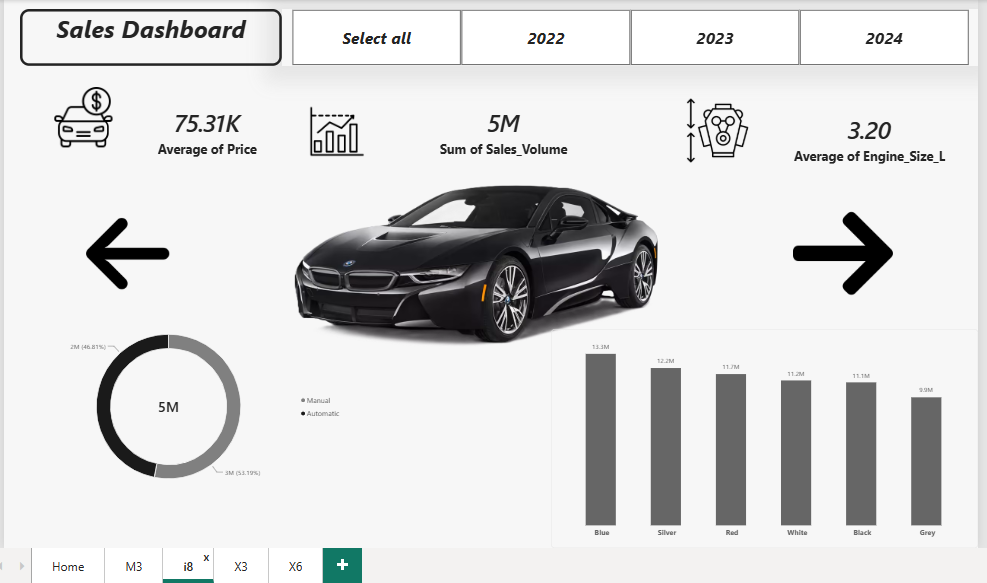

The page's visual inventory and layout, read from the dashboard file:
{"tool":"powerbi","page":{"name":"i8","canvas":[1920,1080],"ordinal":2},"visuals":[{"type":"image","box":[419,246.2,1032.5,561.6],"z":0},{"type":"slicer","fields":{"Values":["BMW_Car_Sales_Classification.Year"]},"box":[548.4,17.3,1371.6,112.3],"z":1},{"type":"textbox","box":[32.4,17.3,516.2,112.3],"z":2},{"type":"image","box":[69.1,170.6,175,118.8],"z":3},{"type":"cardVisual","fields":{"Data":["Avg(BMW_Car_Sales_Classification.Price_USD)"]},"box":[222.5,149,356.4,220.3],"z":4},{"type":"image","box":[1291.7,187.9,231.1,140.4],"z":5},{"type":"cardVisual","fields":{"Data":["Avg(BMW_Car_Sales_Classification.Engine_Size_L)"]},"box":[1522.8,170.6,365,203],"z":6},{"type":"image","box":[578.9,205.2,153.4,108],"z":7},{"type":"cardVisual","fields":{"Data":["Sum(BMW_Car_Sales_Classification.Sales_Volume)"]},"box":[801.4,157.7,365,203],"z":8},{"type":"columnChart","fields":{"Category":["BMW_Car_Sales_Classification.Color"],"Y":["Sum(BMW_Car_Sales_Classification.Price)"]},"box":[1077.6,648,842.4,432],"z":9},{"type":"donutChart","fields":{"Category":["BMW_Car_Sales_Classification.Transmission"],"Y":["Sum(BMW_Car_Sales_Classification.Sales_Volume)"]},"box":[49.7,587.5,637.2,429.8],"z":10},{"type":"image","box":[1555.2,380.2,196.6,237.6],"z":11},{"type":"image","box":[84.2,416.9,317.5,164.2],"z":12}]}

Visuals, with their boxes on the page's 1920x1080 design canvas (x1, y1, x2, y2). These are canvas units, not pixel positions in the 987x583 screenshot, which may show the page scaled, cropped or inside an application window:
image: <region>419, 246, 1452, 808</region>
slicer - BMW_Car_Sales_Classification.Year: <region>548, 17, 1920, 130</region>
textbox: <region>32, 17, 549, 130</region>
image: <region>69, 171, 244, 289</region>
cardVisual - Avg(BMW_Car_Sales_Classification.Price_USD): <region>222, 149, 579, 369</region>
image: <region>1292, 188, 1523, 328</region>
cardVisual - Avg(BMW_Car_Sales_Classification.Engine_Size_L): <region>1523, 171, 1888, 374</region>
image: <region>579, 205, 732, 313</region>
cardVisual - Sum(BMW_Car_Sales_Classification.Sales_Volume): <region>801, 158, 1166, 361</region>
columnChart - BMW_Car_Sales_Classification.Color x Sum(BMW_Car_Sales_Classification.Price): <region>1078, 648, 1920, 1080</region>
donutChart - BMW_Car_Sales_Classification.Transmission x Sum(BMW_Car_Sales_Classification.Sales_Volume): <region>50, 588, 687, 1017</region>
image: <region>1555, 380, 1752, 618</region>
image: <region>84, 417, 402, 581</region>
